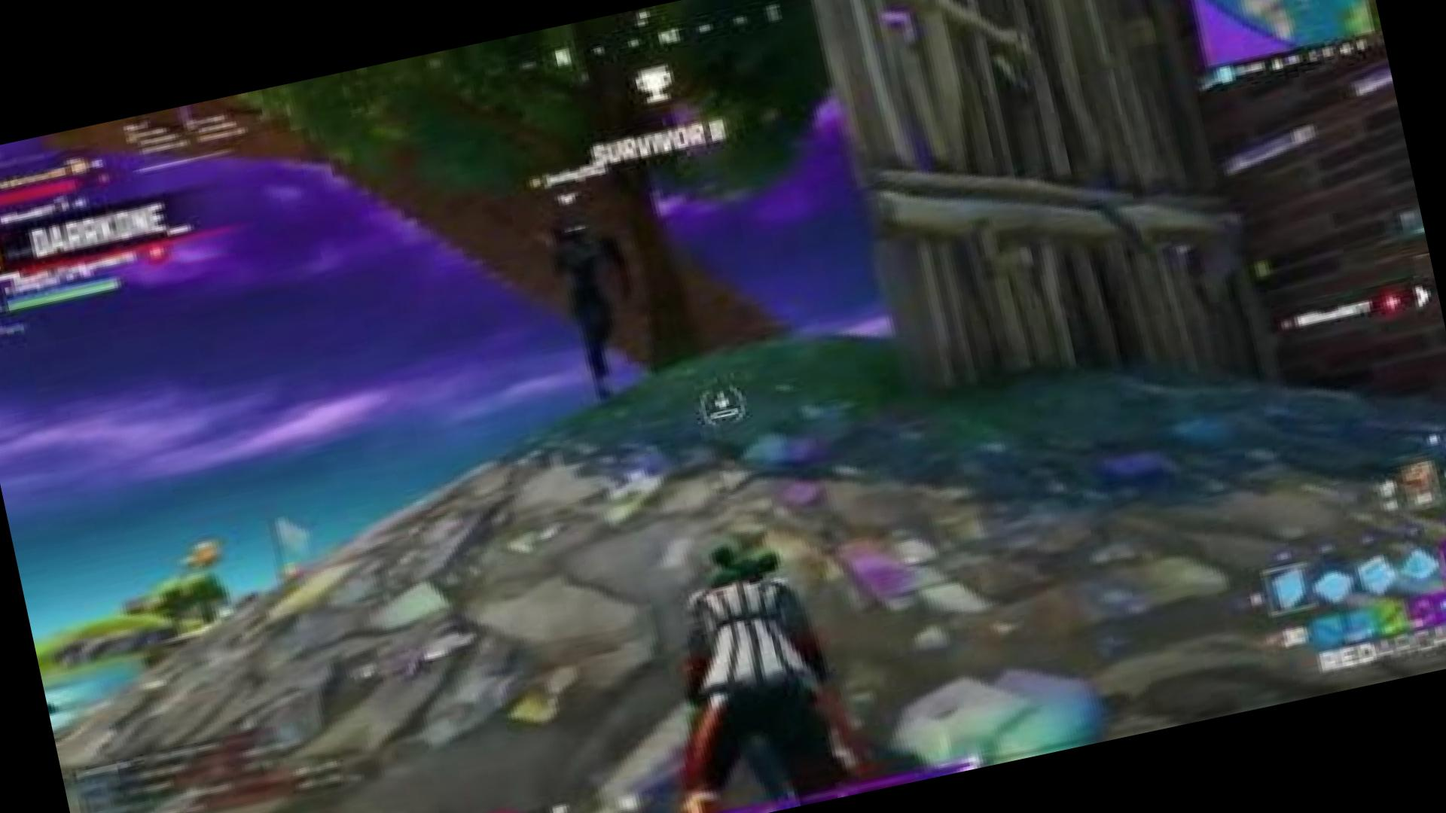player: (522, 201, 682, 406)
